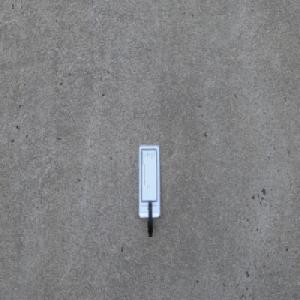LuggageTag: (137, 142, 161, 238)
